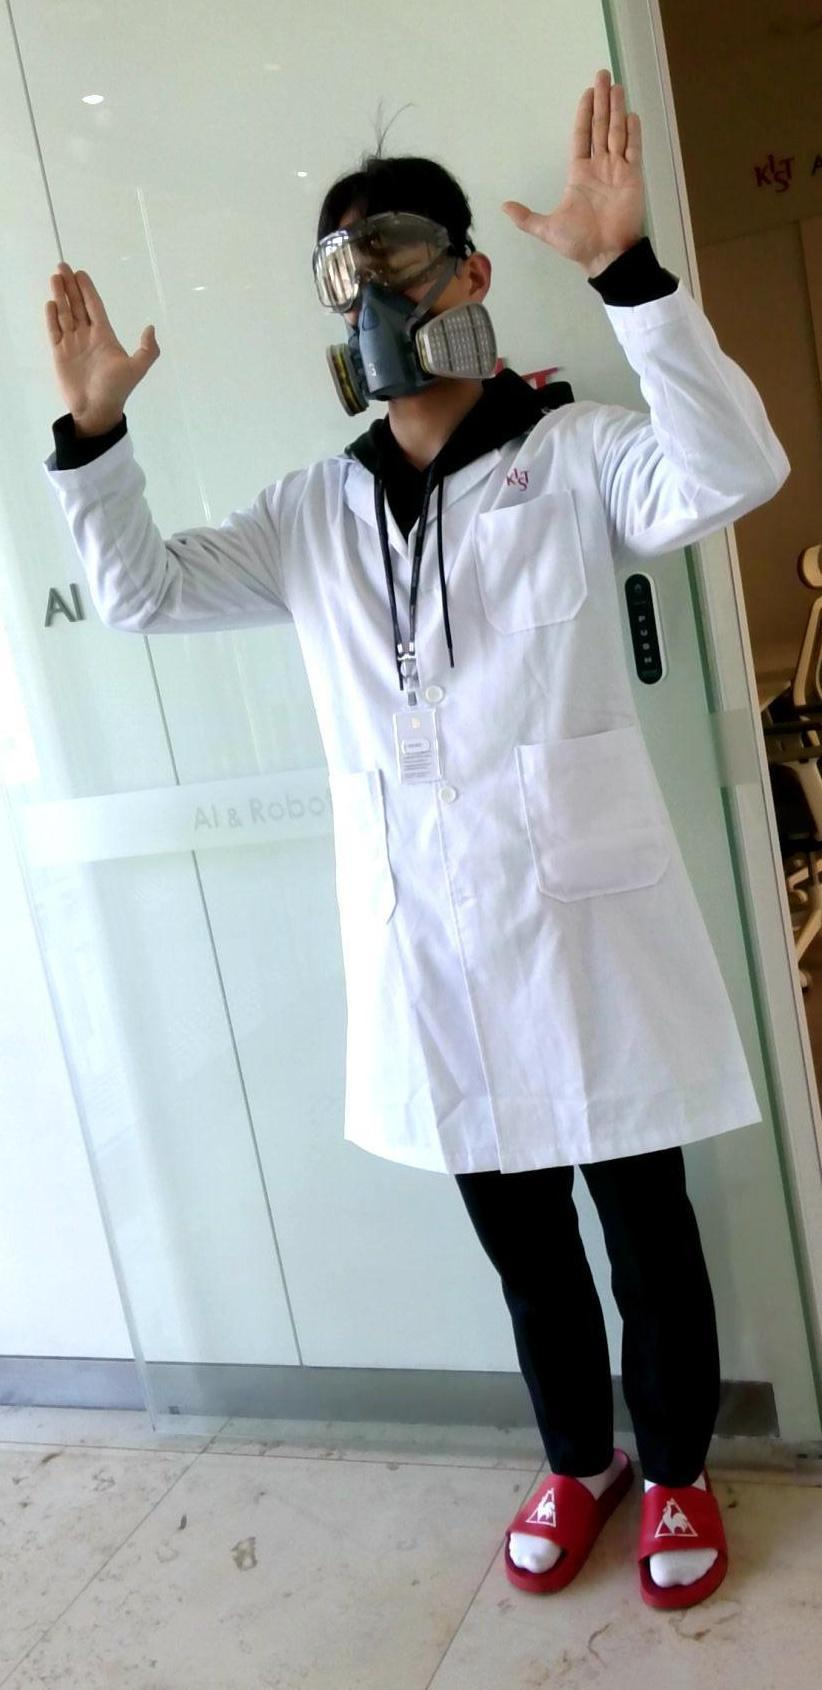lab_coat: (252, 438, 764, 1159)
